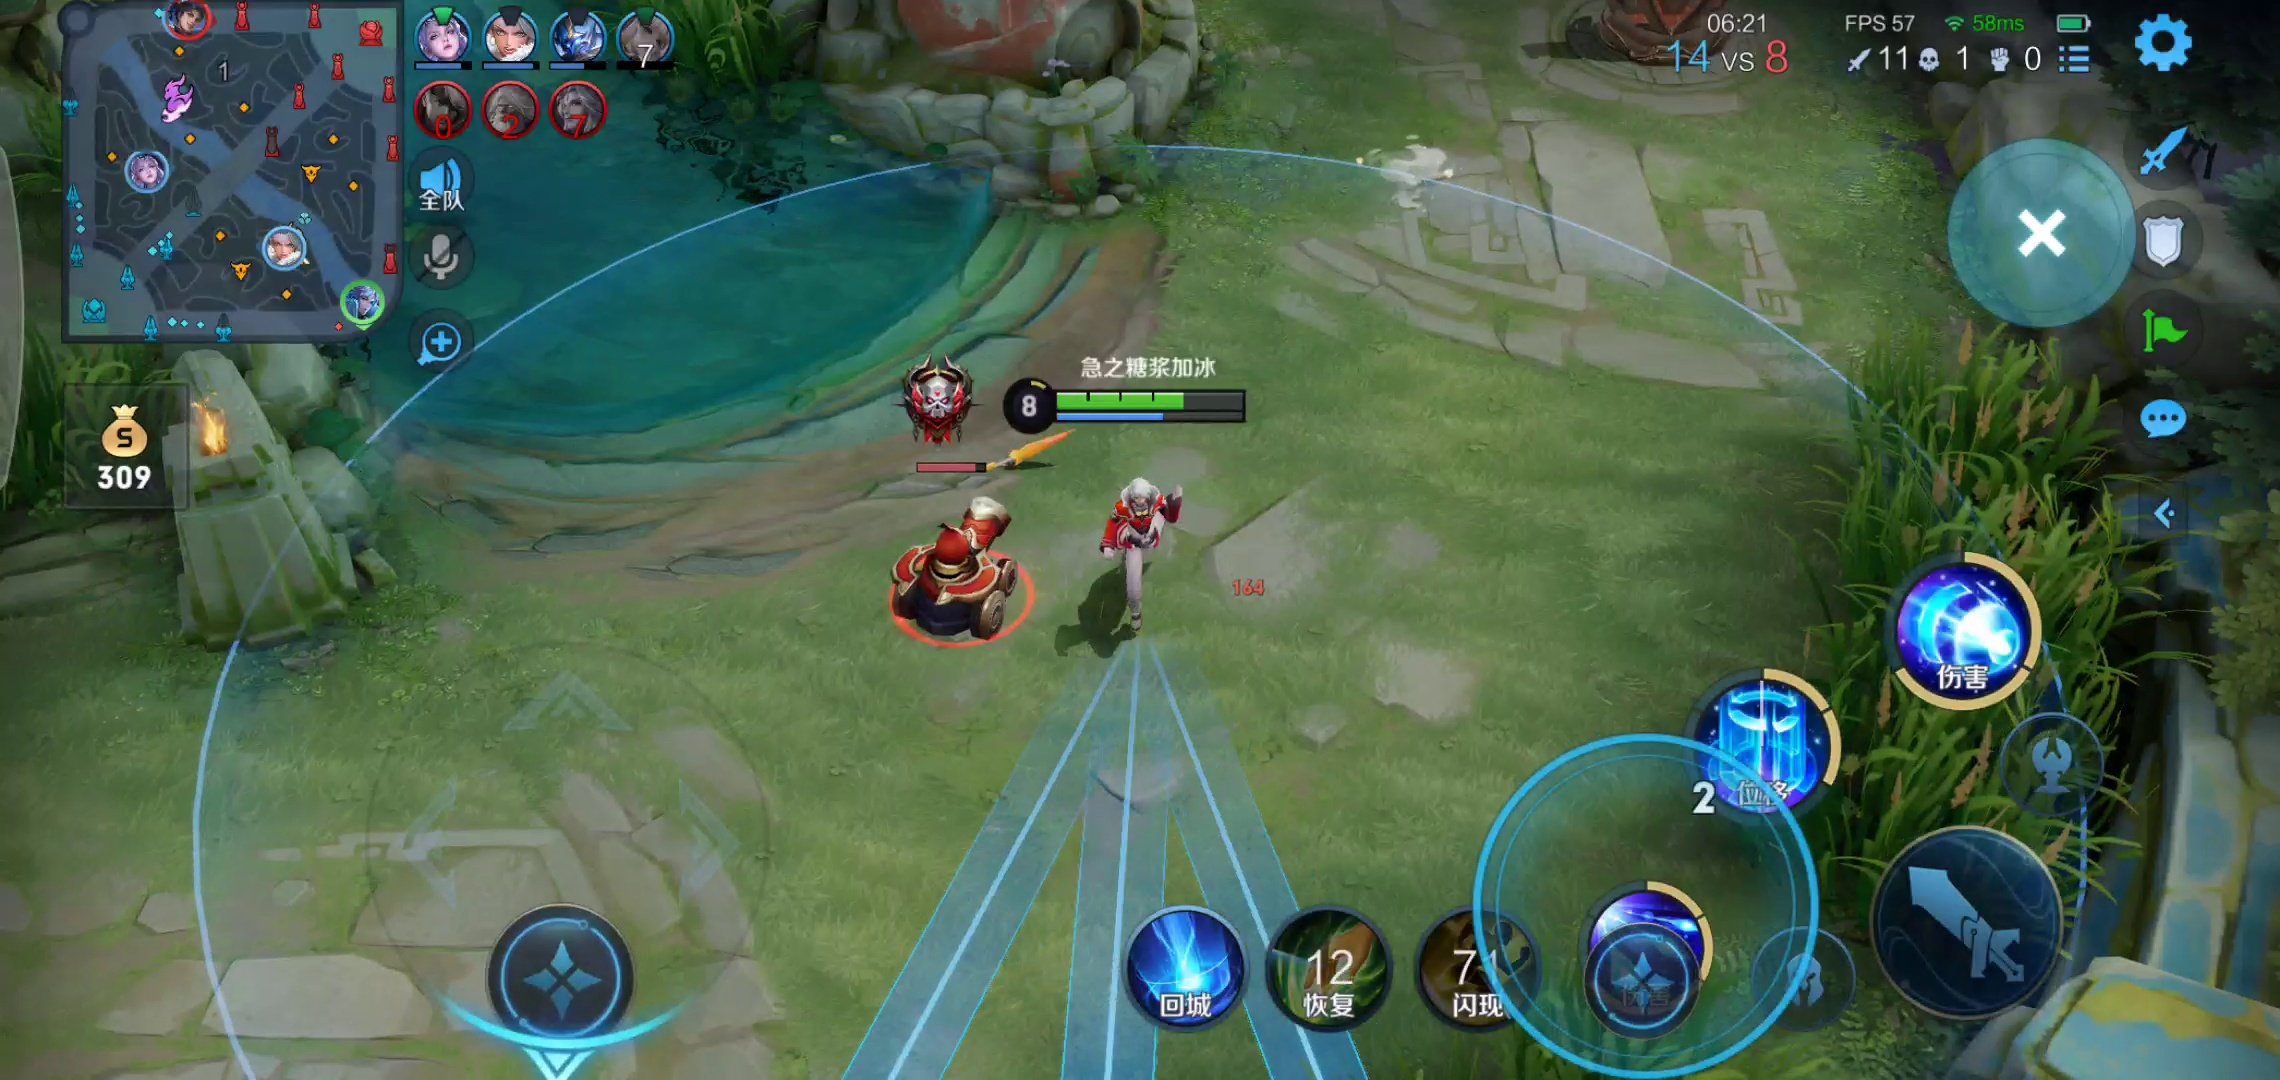grass: (1807, 323, 2119, 949), (672, 1, 806, 92)
hero: (1083, 467, 1187, 640)
soldier: (894, 484, 1032, 645)
